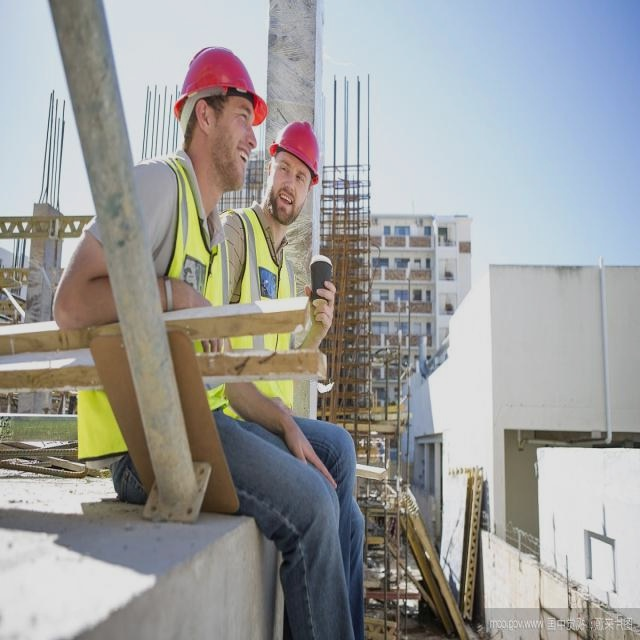Con_Chaleco: (73, 172, 227, 452), (218, 211, 308, 398)
